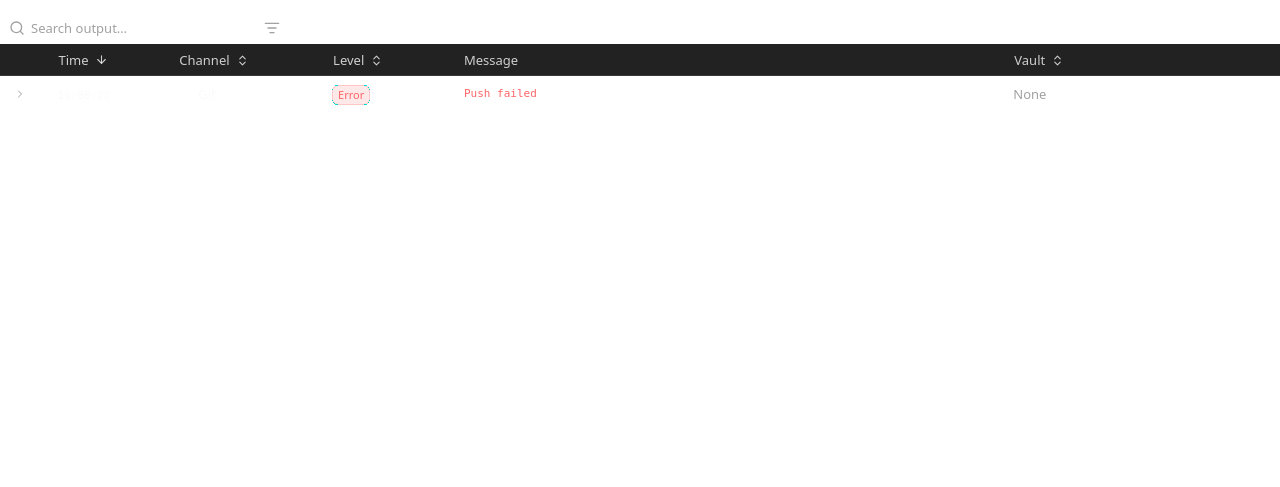
Test: output › a line opens under its row, with its detail and the raw line
The width and height of the screenshot is (1280, 487).
Expected: the text "fatal: could not resolve host" is not shown
Click the button named "Show details: Push failed".
click(20, 94)  # box [8,82,32,106]
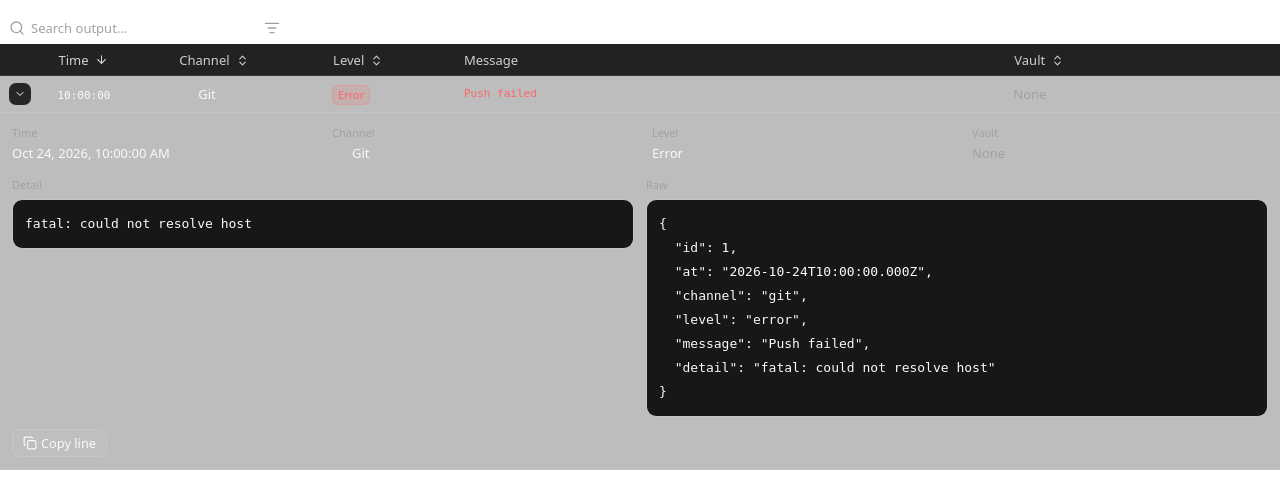
Expected: the button named "Hide details: Push failed" is expanded, [8,82,32,106]
Expected: the text "fatal: could not resolve host" is shown, [25,216,252,231]
Expected: the heading "Raw" is shown, [646,177,668,192]
Note: Clicking the row itself closes it again.
Click the text "Push failed".
click(500, 94)  # box [464,87,537,100]
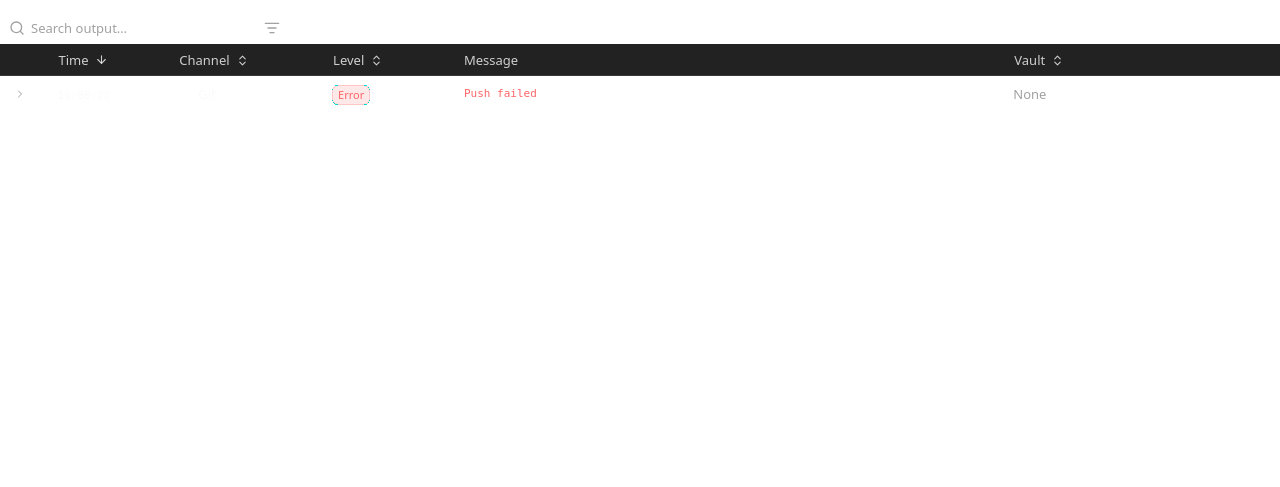
Expected: the text "fatal: could not resolve host" is gone
